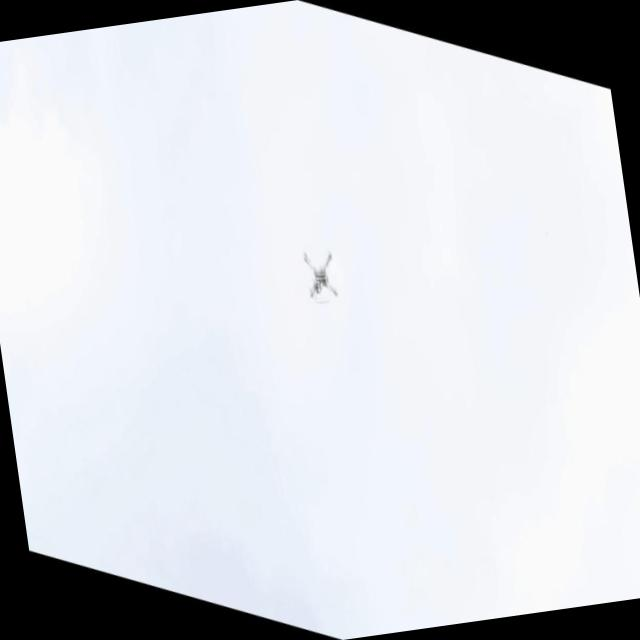drone: (294, 236, 348, 313)
